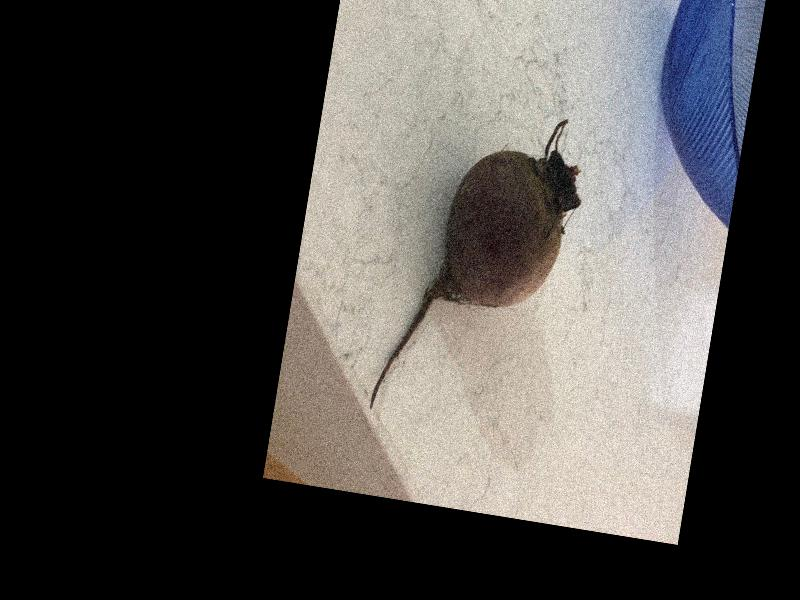Beet: (368, 97, 592, 434)
